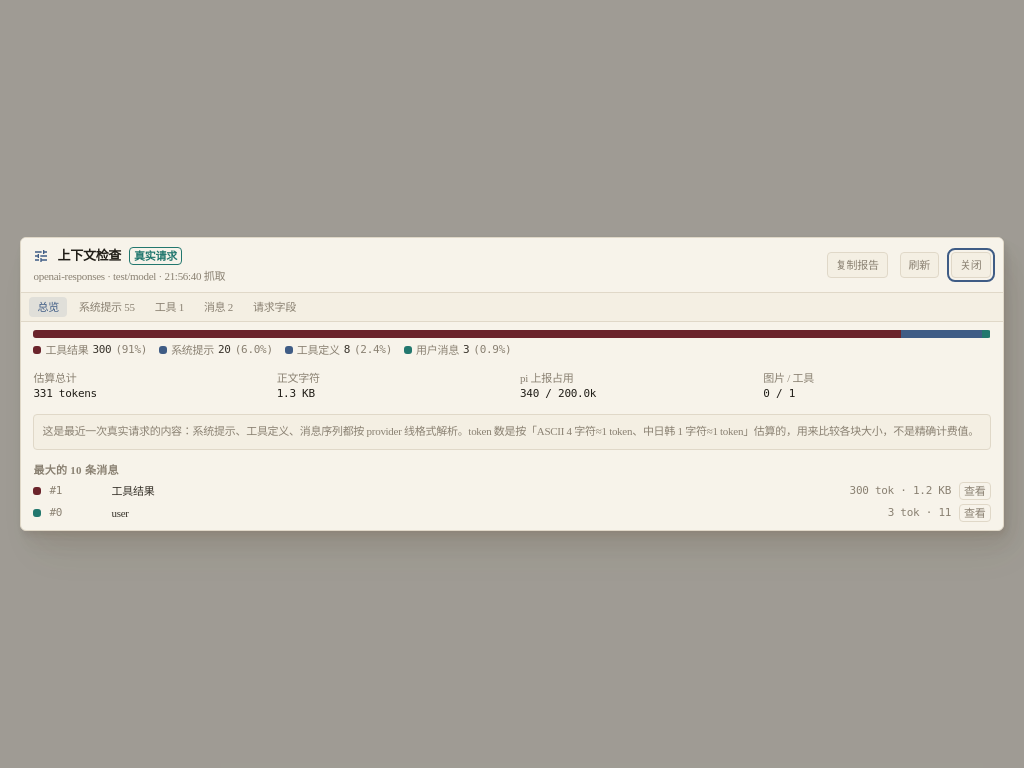
Test: ContextInspector › 消息标签页里长正文默认折叠，可展开，并显示真实字符数
Step 1. Click the button "消息 2" → (218, 307), box [196,297,241,317]
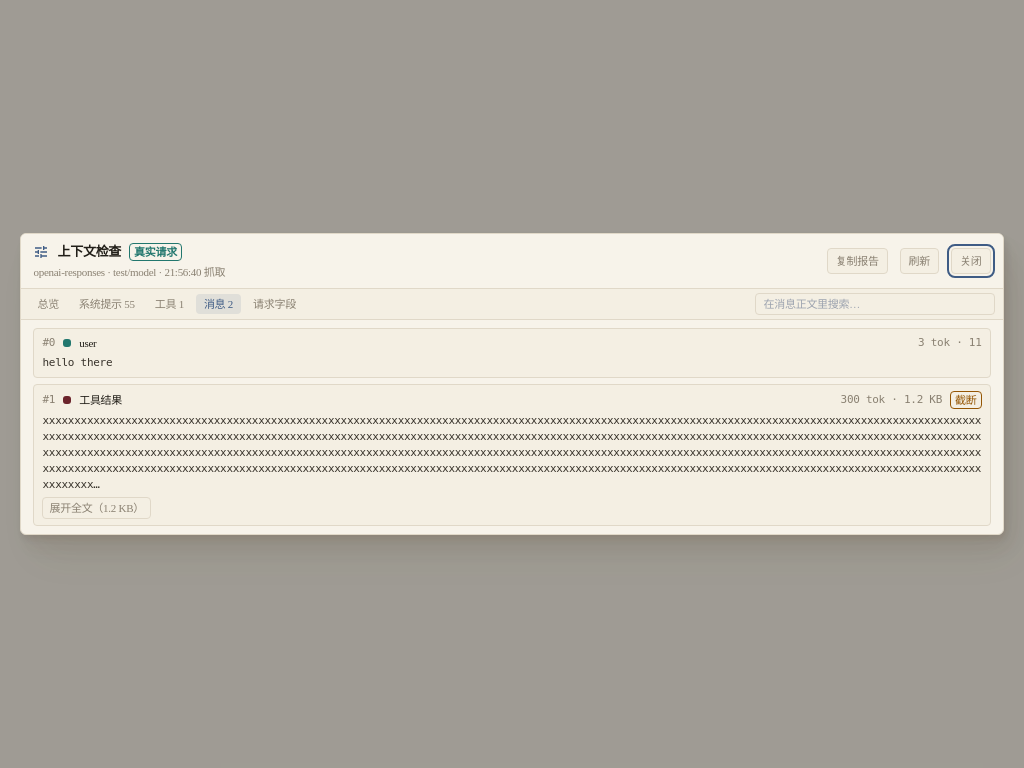
Now the text "截断" is shown, box [950,391,982,409]
Step 2. Click the button "展开全文（1.2 KB）" → (97, 508), box [42,497,151,519]
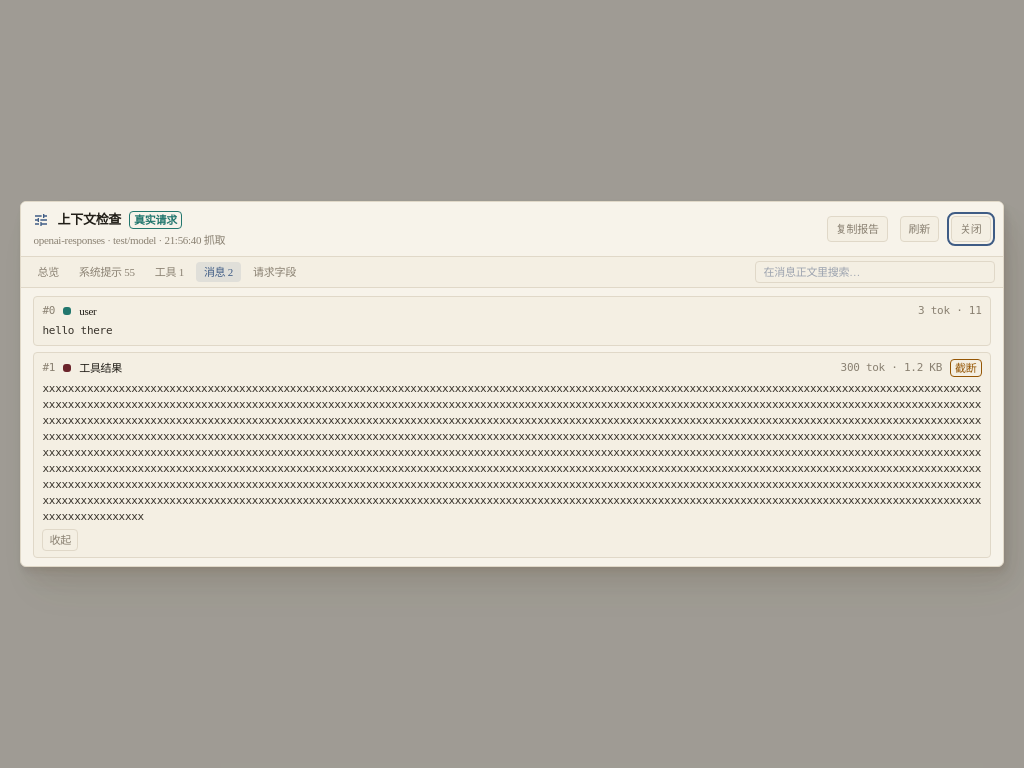
Now the button "收起" is shown, box [42,529,78,551]
